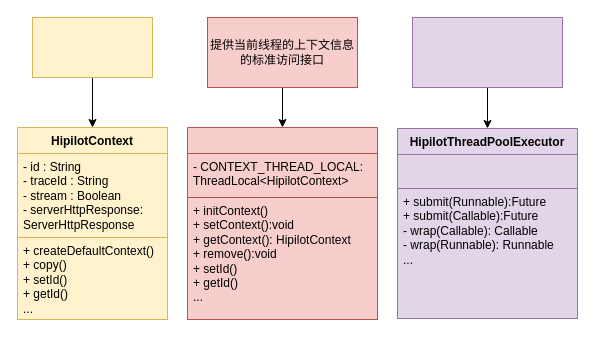
Image size: 595x340. Some labels were removed from this diagram. Each missing label, with the box of its shape:
- delegate : ExecutorService: (396, 154, 578, 188)
HipilotContextHolder: (186, 126, 378, 320)
业务上下文实体对象 存储上下文信息: (32, 16, 152, 78)
保证线程切换时上下文信息不丢失: (412, 16, 562, 88)
